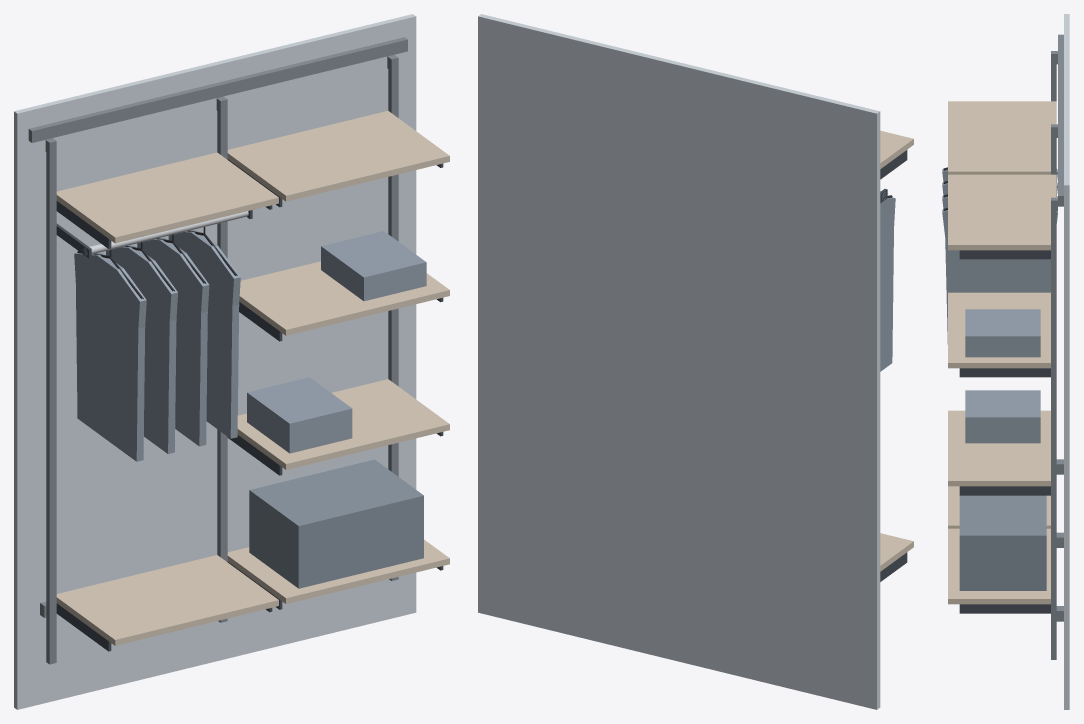
The model's file is dress.glb.
The picture shows the model from 3 angles, left to right: view 1: azimuth 30°, elevation 25°; view 2: azimuth 150°, elevation 25°; view 3: azimuth 270°, elevation 25°; orthographic projection. The views are drawn at different scales.
Visible parts, largest first — view 1: 벽, 선반, 옷, 수납함, 기둥, 선반 받침, 옷봉, 옷걸이; view 2: 벽, 옷, 선반, 선반 받침; view 3: 선반, 옷, 수납함, 기둥, 벽, 선반 받침.
Boxes of the visible parts, x1,y1,x2,y2 form: 벽: (14,14,416,709); 선반: (56,111,449,645); 옷: (74,230,426,461); 수납함: (249,459,423,588); 기둥: (28,37,407,664); 선반 받침: (56,159,443,651); 옷봉: (83,211,248,255); 옷걸이: (77,227,237,298); 벽: (478,14,880,709); 옷: (880,197,895,371); 선반: (880,130,913,571); 선반 받침: (880,150,907,581); 선반: (948,101,1056,604); 옷: (942,169,1057,443); 수납함: (959,495,1046,590); 기둥: (1051,34,1063,659); 벽: (1064,14,1069,709); 선반 받침: (959,250,1050,613).
Size of the model in its own units: 1.4 by 2 by 0.44.
